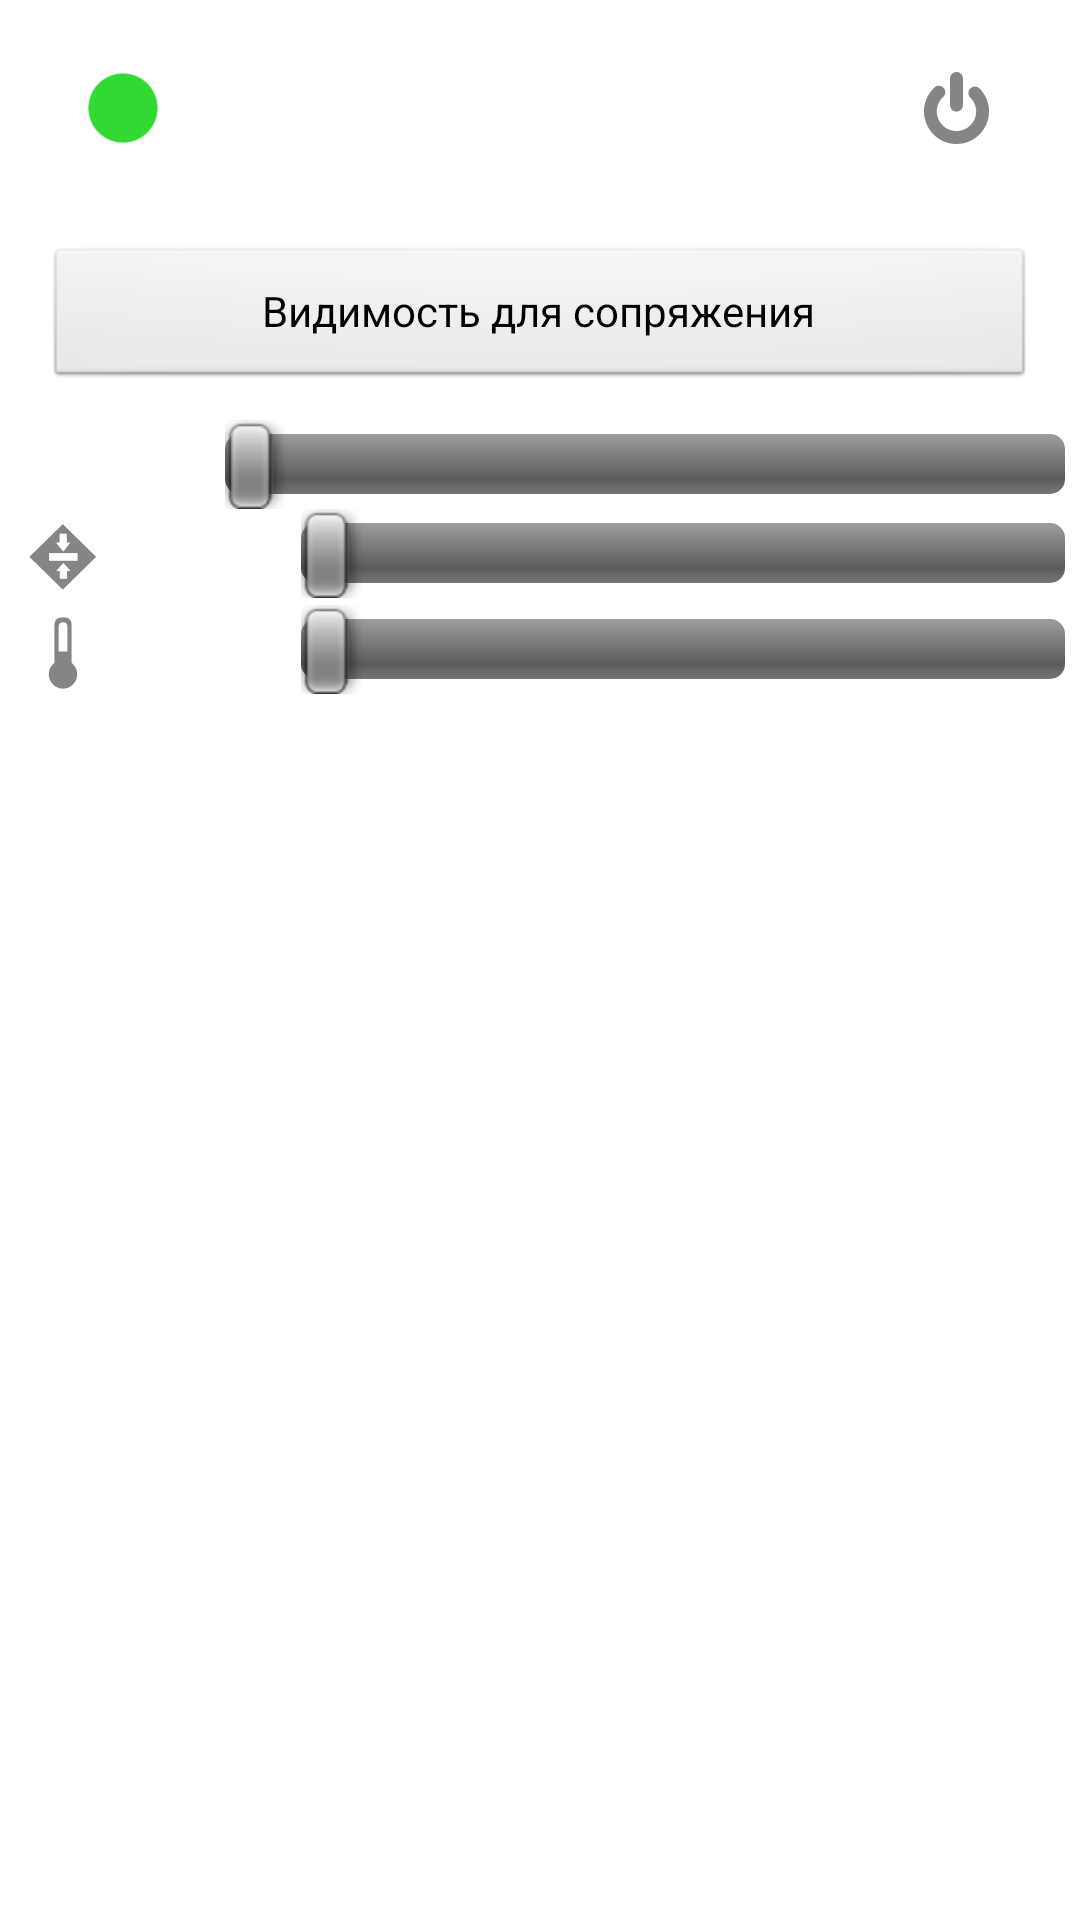

Screen size 1080px x 1920px. Icon name, then its box in pixels as (x1, y1, x2, y2):
shutdown: (924, 72, 989, 144)
